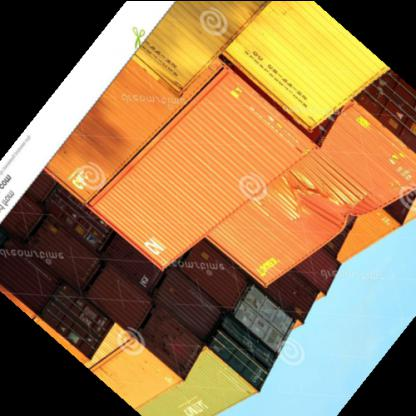Damage: (299, 180, 362, 240)
